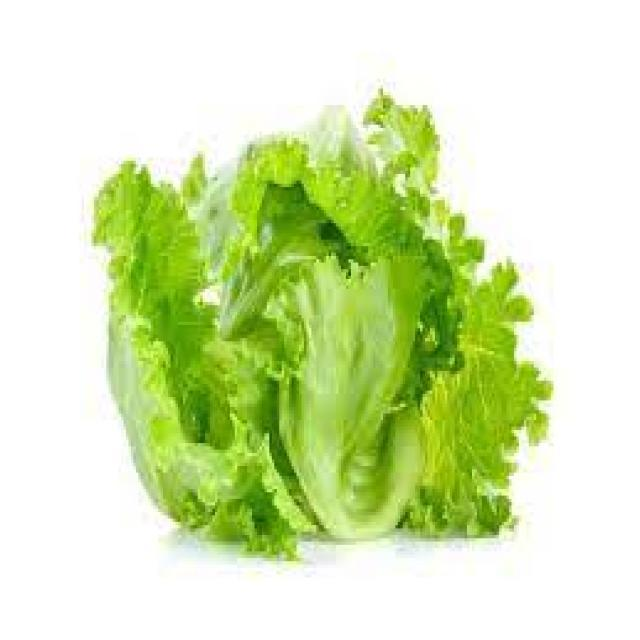Lettuce: (82, 86, 535, 552)
